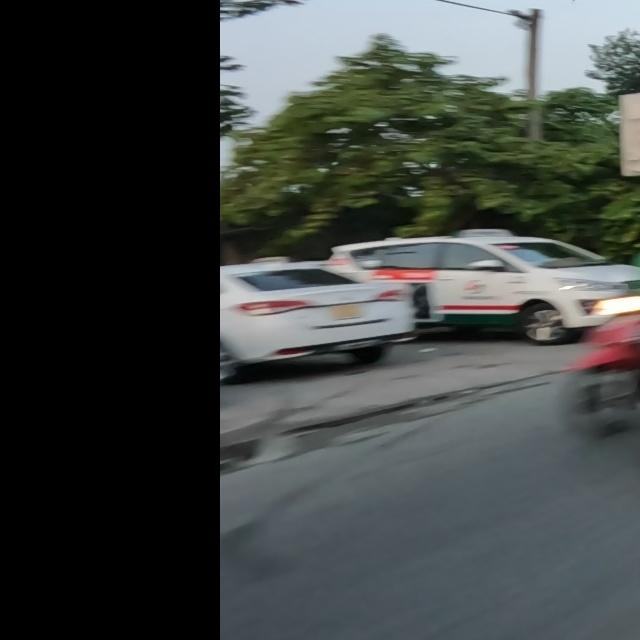license-plate: (330, 305, 362, 318)
